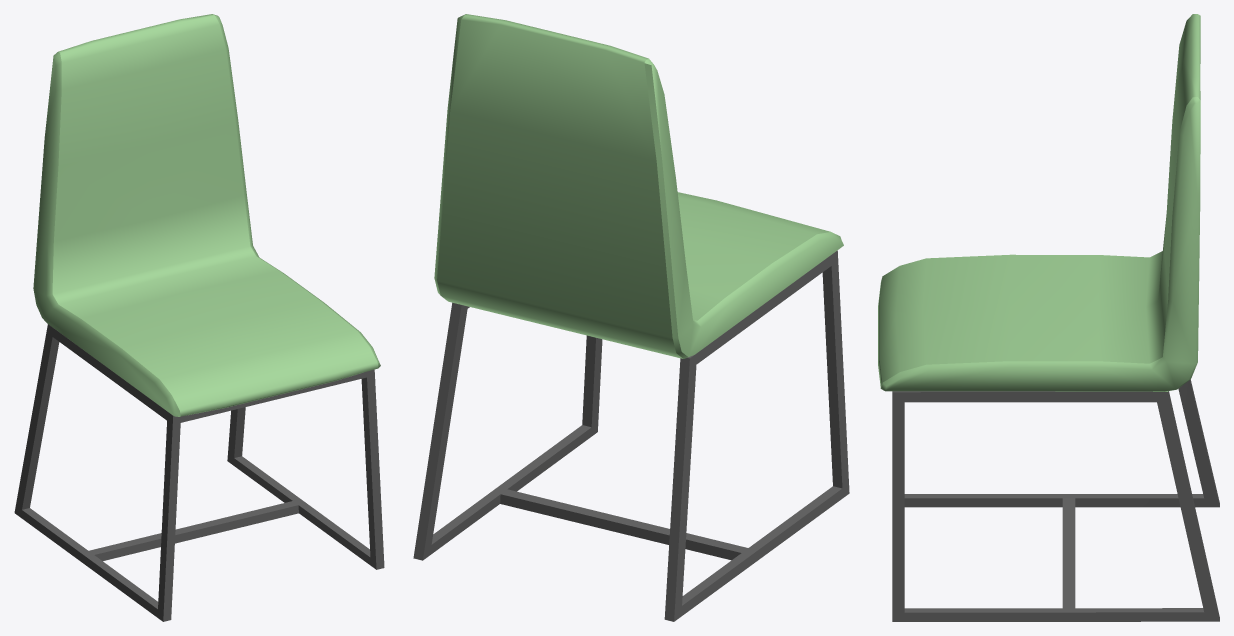
The model's file is SDJJA16502.FBX.
3 renders of one model, left to right at view 1: azimuth 30°, elevation 25°; view 2: azimuth 150°, elevation 25°; view 3: azimuth 270°, elevation 25°, orthographic. The views are drawn at different scales.
Parts seen in each view (by area): view 1: SDJJA16502; view 2: SDJJA16502; view 3: SDJJA16502.
Part boxes in pixels (bbox=[...]): SDJJA16502: bbox=[14, 14, 384, 621]; SDJJA16502: bbox=[413, 14, 849, 621]; SDJJA16502: bbox=[878, 14, 1219, 621].
Size of the model in its own units: 42 by 51 by 84.
